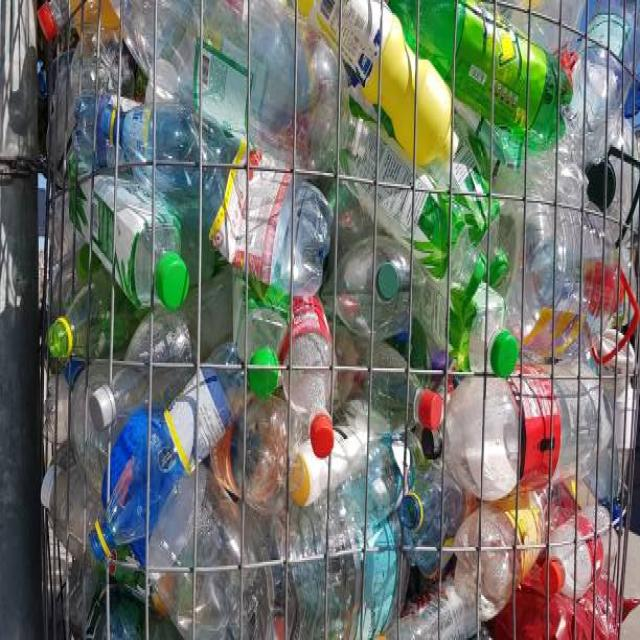plastic: (70, 9, 577, 629)
